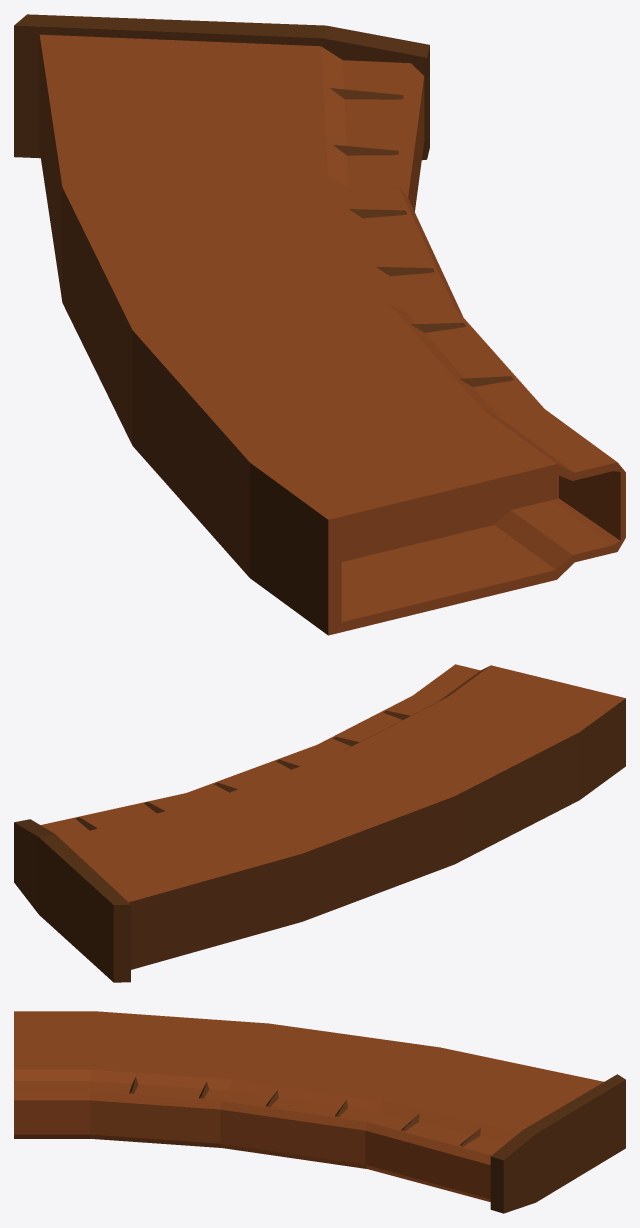
Rendered from AkSuMagazine.glb.
3 views of the same model, one above another, from view 1: azimuth 30°, elevation 25°; view 2: azimuth 150°, elevation 25°; view 3: azimuth 270°, elevation 25° (orthographic). The views are drawn at different scales.
Parts seen in each view (by area): view 1: AkSuMagazine; view 2: AkSuMagazine; view 3: AkSuMagazine.
Boxes of the visible parts, left/top/right/bottom form: AkSuMagazine: left=14, top=14, right=625, bottom=635; AkSuMagazine: left=14, top=664, right=625, bottom=982; AkSuMagazine: left=14, top=1011, right=625, bottom=1213.
Bounding box in the file's own units: 0.6209 × 0.1369 × 1.1.
Materials: 1 (1 with a texture image).
